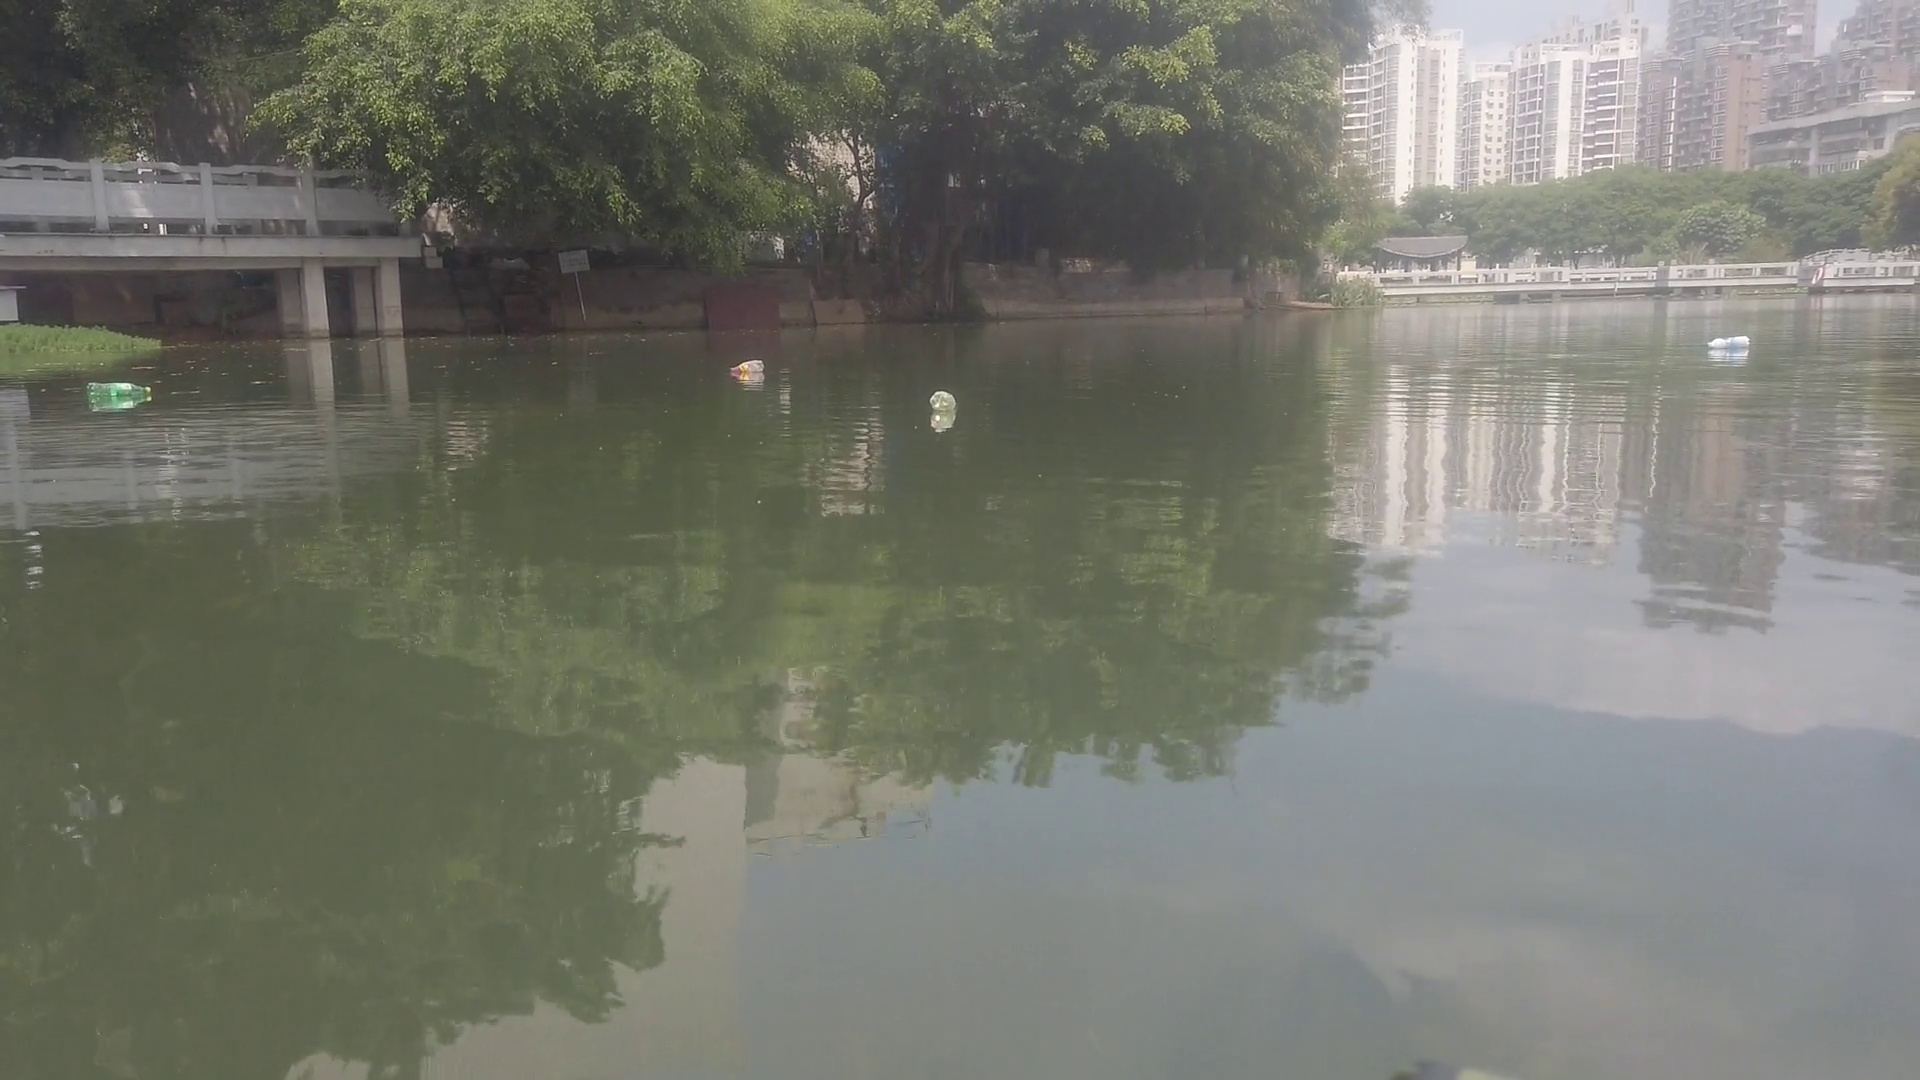bottle: (84, 378, 153, 404), (926, 385, 957, 415), (1705, 332, 1751, 349), (727, 360, 764, 376)
